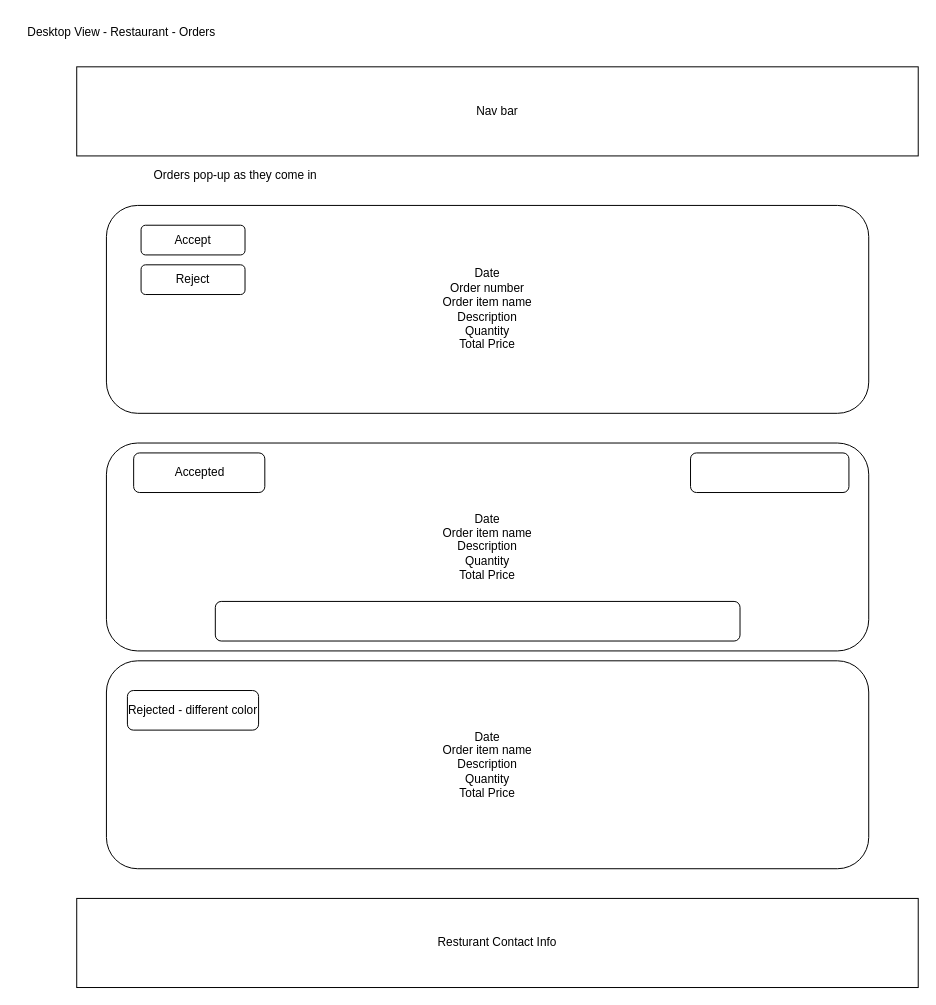
This 936x1005 diagram has some shape labels left out. Here are the shapes that lost their labels. From the top down, the centre of each, then its label:
the point at 769,472: Set interval subtract from fixed est time of dish prep
the point at 477,620: SLIDER TO UPDATE ORDER STATUS
